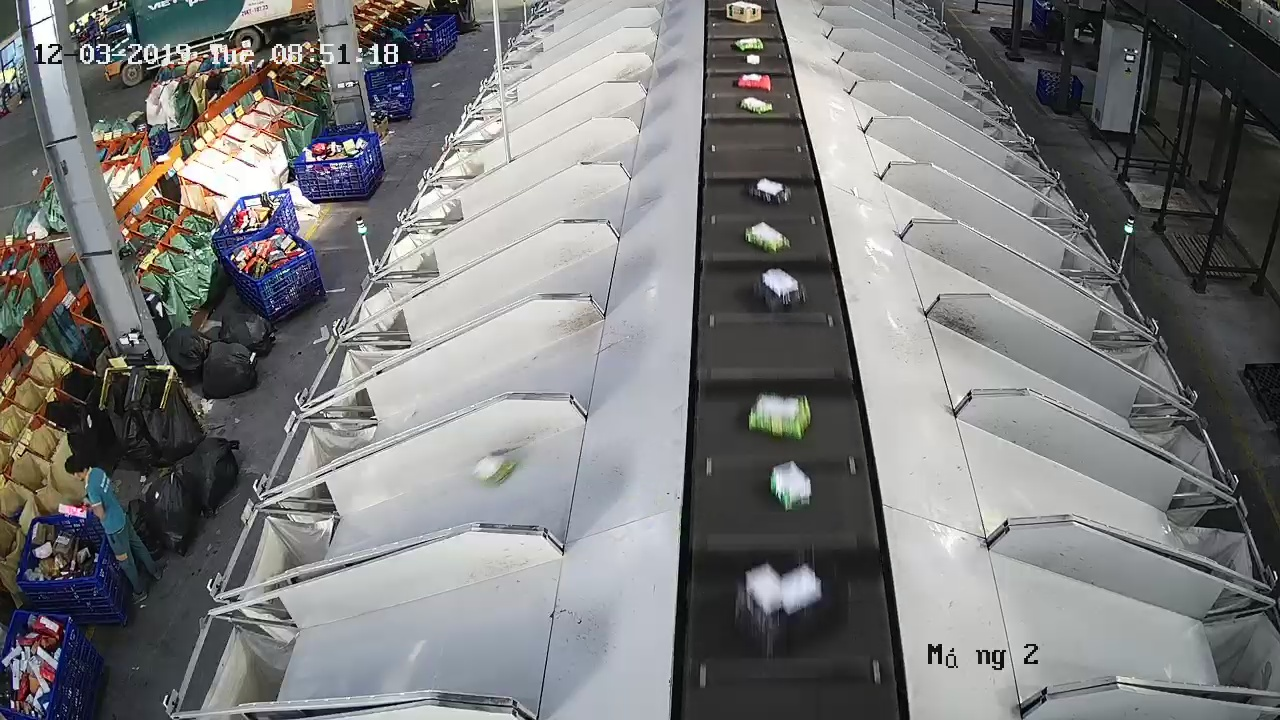parcel: (732, 544, 850, 661), (747, 391, 813, 442), (752, 266, 809, 315), (768, 459, 813, 514), (744, 220, 792, 255), (470, 453, 518, 488), (747, 176, 793, 206)
